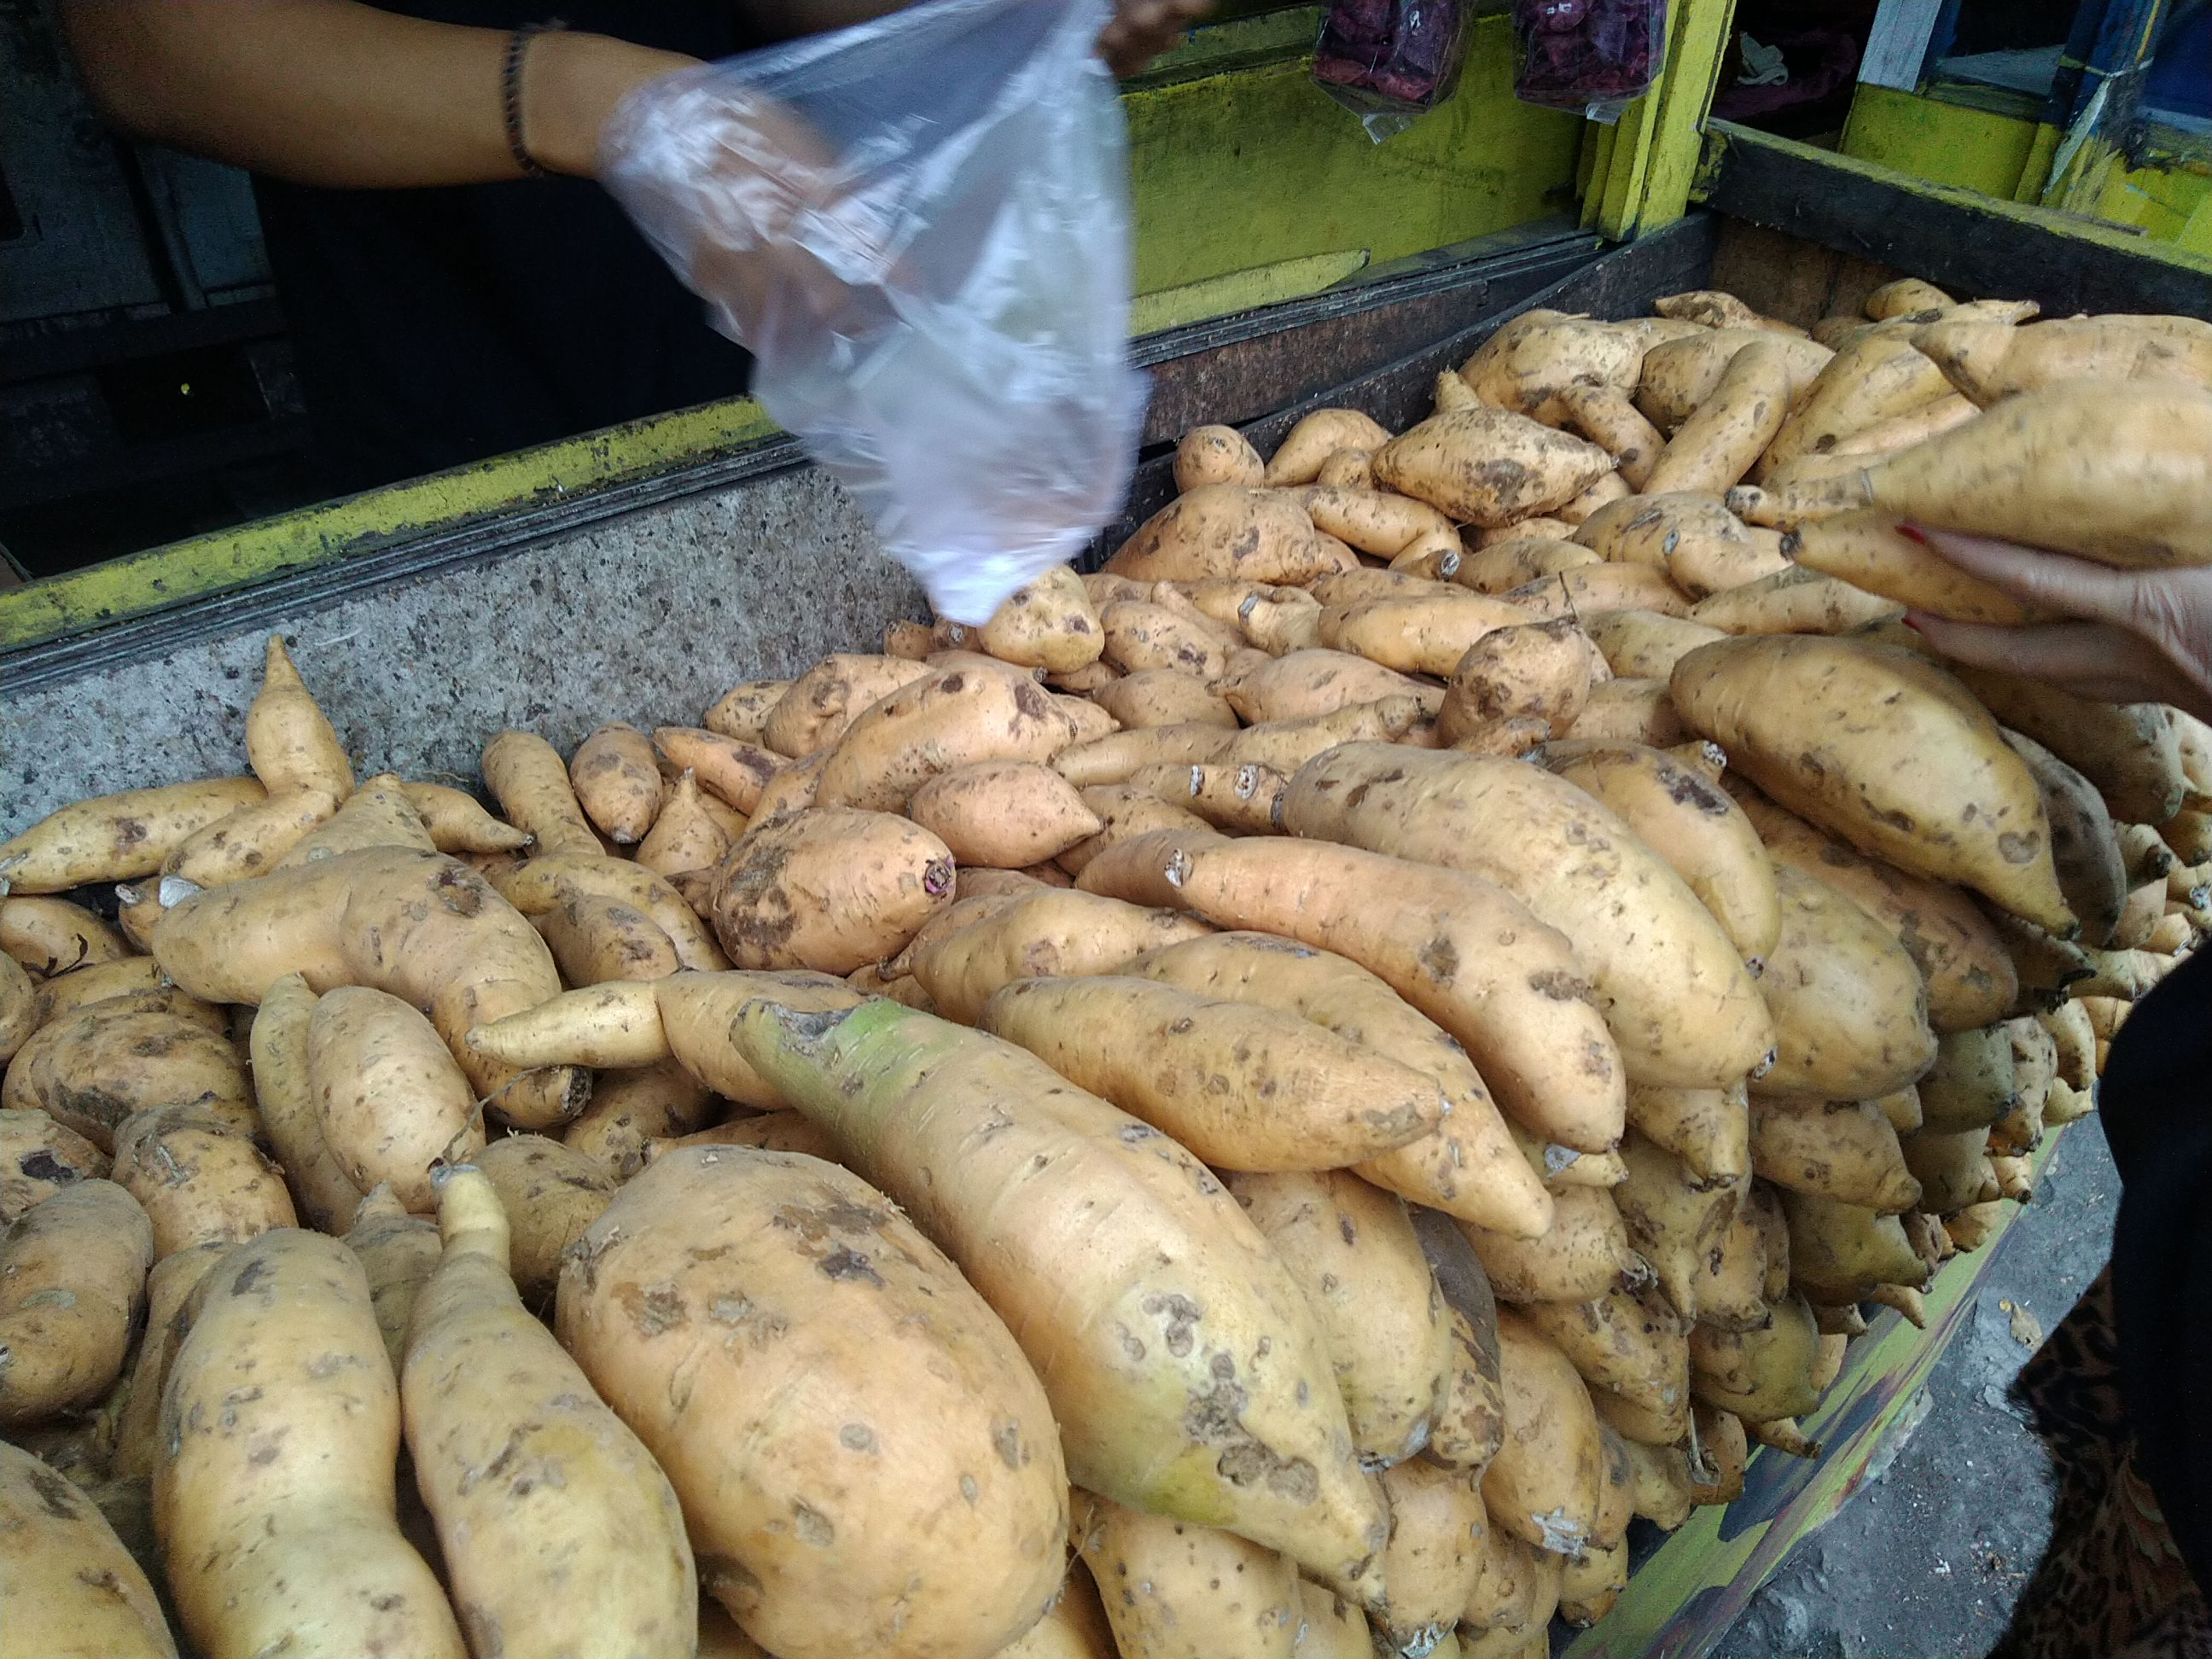ubi cilembu: (7, 641, 2212, 1659), (996, 256, 2207, 647), (707, 983, 1432, 1615), (557, 1131, 1087, 1649), (387, 1155, 707, 1659), (146, 1201, 449, 1659), (963, 957, 1463, 1199), (146, 871, 622, 1105), (693, 795, 968, 967), (763, 655, 1061, 798), (0, 1169, 153, 1413), (1366, 394, 1618, 535), (1635, 331, 1796, 511), (892, 749, 1108, 877)
